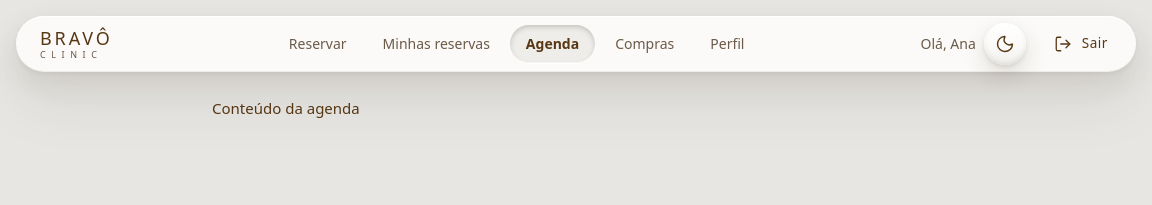
Test: AppShell header › stays in the app and shows an error when logout fails
This screenshot has width=1152, height=205.
Click the button "Sair".
click(1081, 44)  # box 1034,24 -> 1128,64
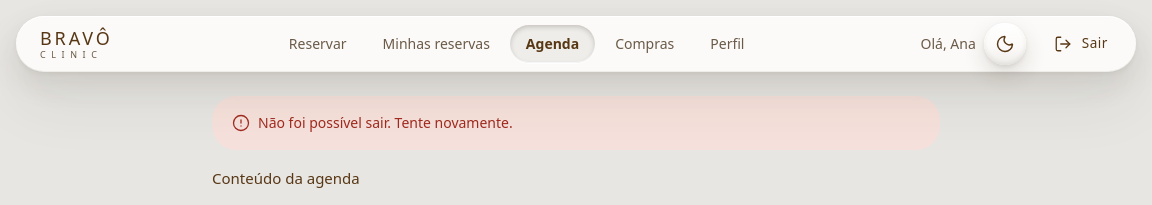
Expected: the text "Conteúdo da agenda" is shown, 212,168 -> 360,188
Now the message reads "Não foi possível sair. Tente novamente.", box 258,113 -> 513,132
